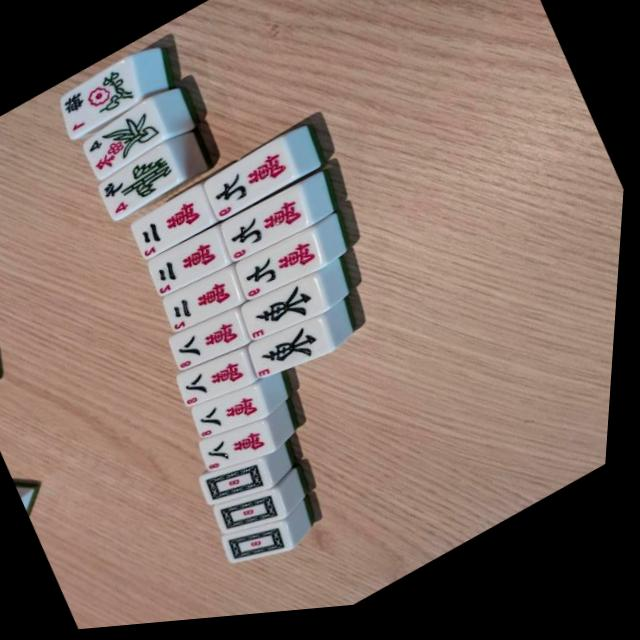bf1: (54, 62, 144, 139)
bf4: (95, 148, 187, 225)
bs4: (78, 106, 166, 179)
hdw: (229, 519, 298, 581), (221, 487, 291, 548), (207, 458, 273, 516)
hwe: (241, 282, 325, 350), (250, 326, 328, 390)
sc2: (131, 190, 216, 263), (146, 235, 229, 304), (165, 276, 241, 340)
sc8: (171, 313, 250, 381), (203, 420, 278, 481), (181, 355, 253, 413), (196, 391, 265, 448)
sc9: (205, 146, 299, 225), (220, 191, 312, 267), (236, 234, 324, 307)
